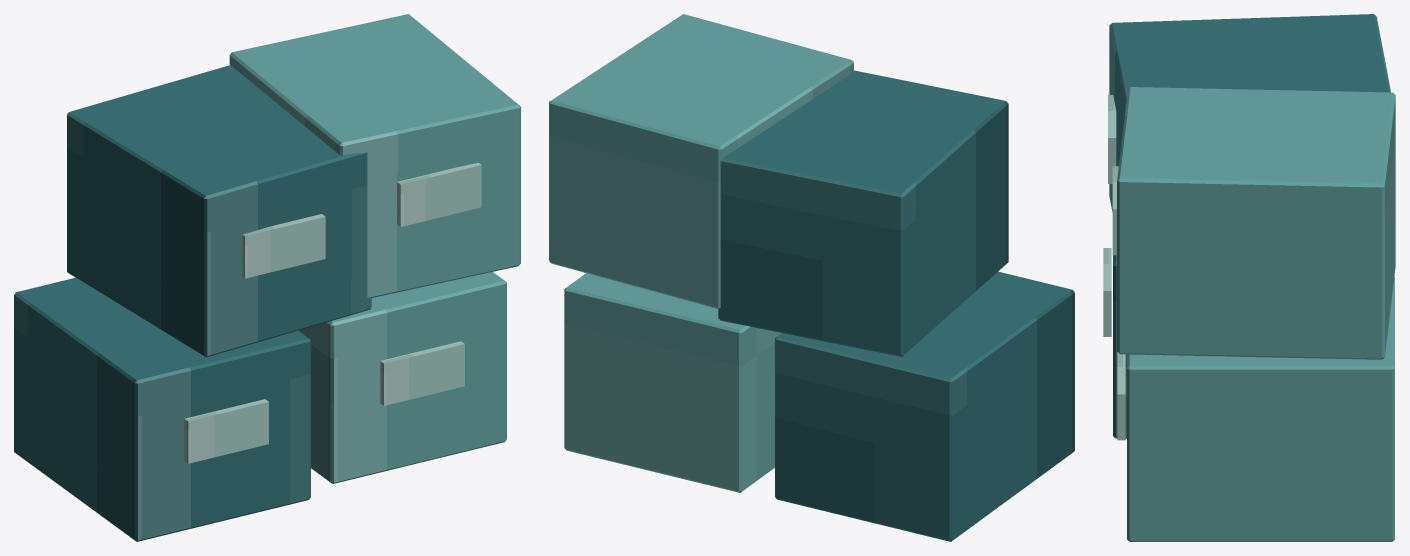
Rendered from office_file_boxes_teal.glb.
3 renders of one model, left to right at view 1: azimuth 30°, elevation 25°; view 2: azimuth 150°, elevation 25°; view 3: azimuth 270°, elevation 25°, orthographic. The views are drawn at different scales.
Parts seen in each view (by area): view 1: ArchiveBox_2, ArchiveBox_0, ArchiveBox_3, ArchiveBox_1, Label_0, Label_1, Label_3, Label_2; view 2: ArchiveBox_2, ArchiveBox_0, ArchiveBox_3, ArchiveBox_1; view 3: ArchiveBox_3, ArchiveBox_1, ArchiveBox_2, ArchiveBox_0, Label_0, Label_1, Label_2, Label_3.
Boxes of the visible parts, x1,y1,x2,y2 form: ArchiveBox_2: [67, 65, 371, 357]; ArchiveBox_0: [14, 277, 310, 541]; ArchiveBox_3: [229, 14, 520, 297]; ArchiveBox_1: [298, 272, 506, 483]; Label_0: [184, 399, 268, 463]; Label_1: [380, 341, 464, 405]; Label_3: [397, 162, 481, 226]; Label_2: [242, 214, 325, 278]; ArchiveBox_2: [718, 70, 1008, 356]; ArchiveBox_0: [775, 271, 1074, 541]; ArchiveBox_3: [549, 14, 853, 309]; ArchiveBox_1: [564, 273, 781, 492]; ArchiveBox_3: [1117, 87, 1395, 359]; ArchiveBox_1: [1127, 277, 1394, 541]; ArchiveBox_2: [1109, 14, 1390, 211]; ArchiveBox_0: [1113, 255, 1126, 438]; Label_0: [1103, 248, 1111, 336]; Label_1: [1117, 352, 1125, 440]; Label_2: [1108, 95, 1116, 183]; Label_3: [1112, 166, 1118, 255].
Bounding box in the file's own units: 1.08 × 0.89 × 0.6323.
Materials: 1 (1 with a texture image).
